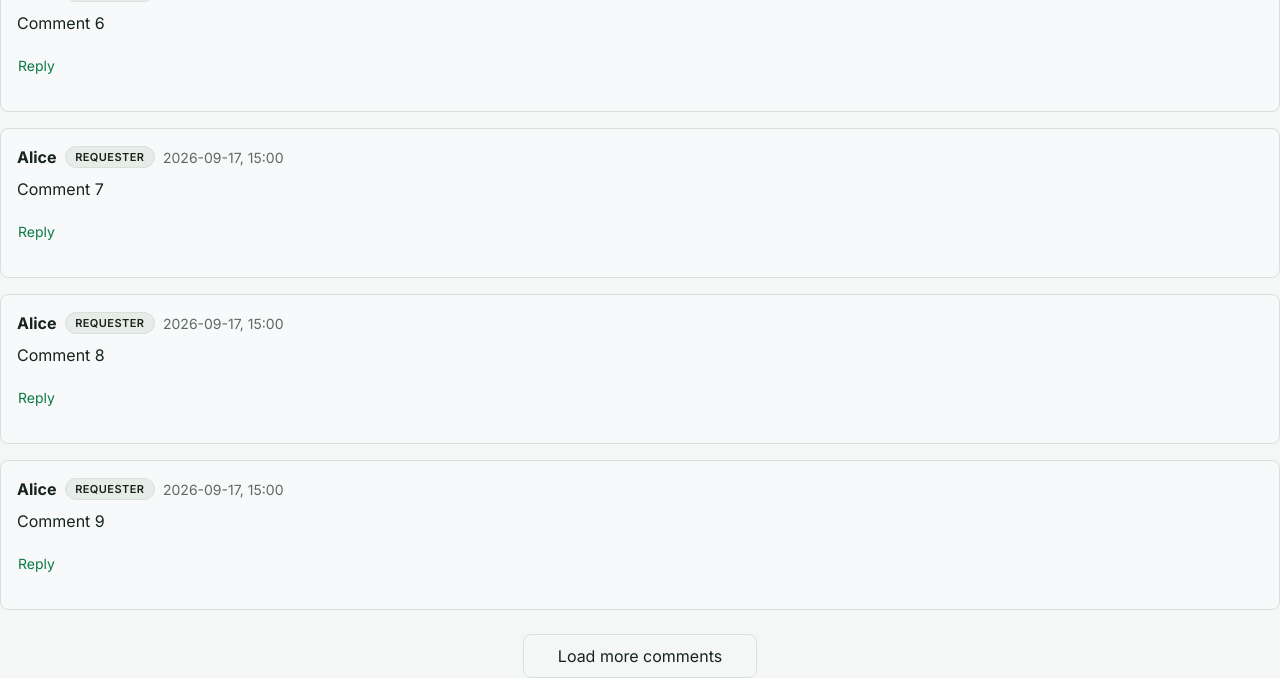
Test case: PublicComments component @issue-6 › UI-23 Root composer and lazy root list › does not duplicate a page boundary when another user posts between page requests
The width and height of the screenshot is (1280, 678).
(page scrolled)
Click the button "Load more comments": (640, 656) [523, 634, 757, 677]
(page scrolled)
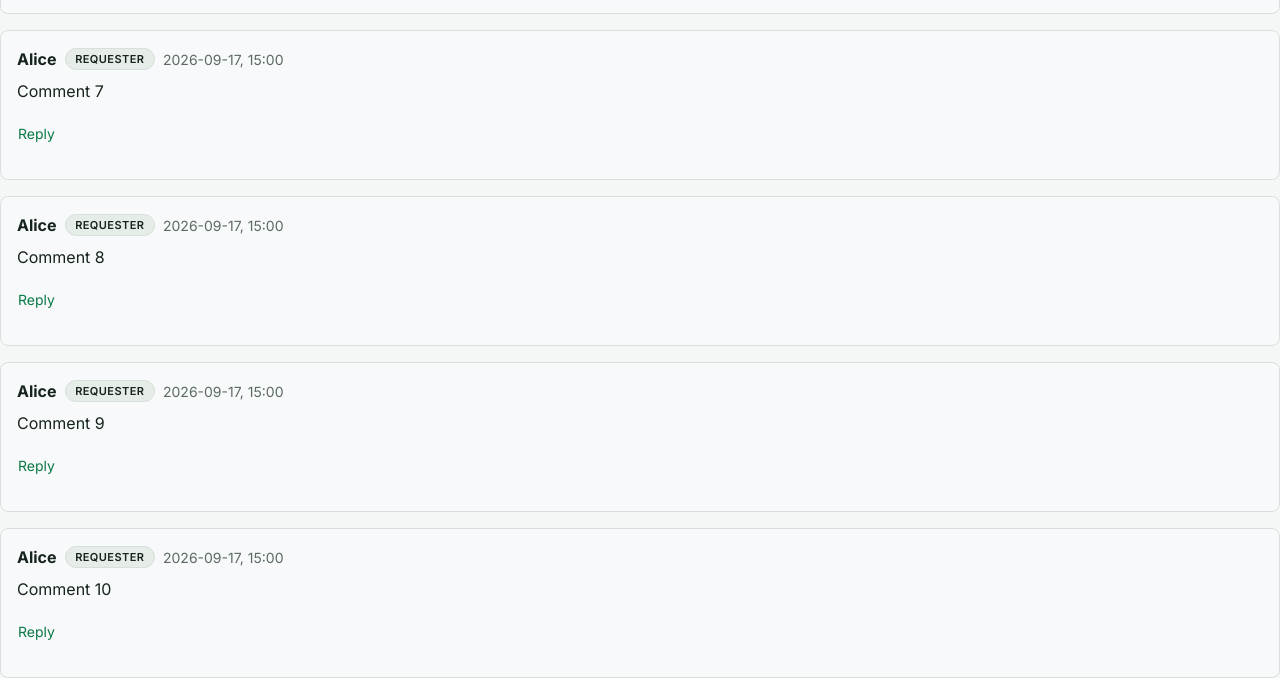
Now the text "Comment 10" is shown, box [17, 579, 111, 599]
Now the number of elements with test id "comment-root-9" is 1, box [0, 362, 1279, 512]
Now the button "Load more comments" is gone
